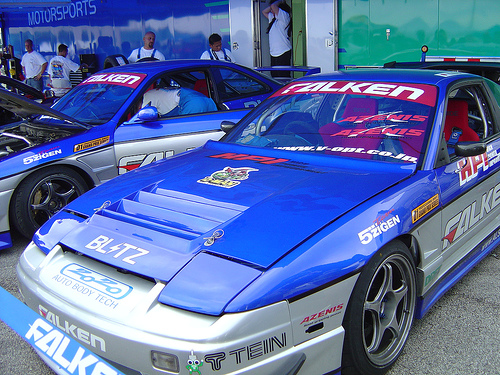without_mask: (206, 32, 226, 54), (140, 28, 159, 51), (21, 39, 36, 55)
